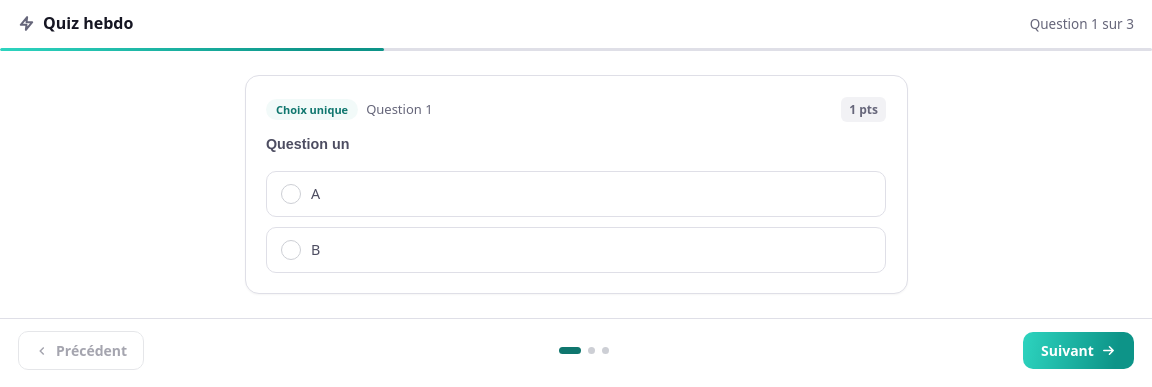
Test: QuizView — points de progression (dots) › un point par question ; clic → navigation (goTo)
Check: the text "Question un" is shown, box [266,136,349,152]
Click the button named "Question 3" at (605, 351), box [602,347,609,354]
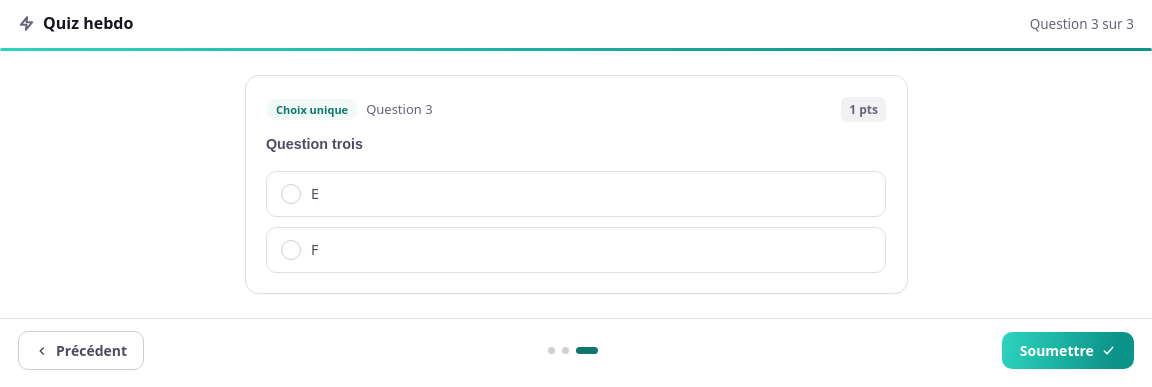
Check: the text "Question trois" is shown, box [266,136,363,152]
